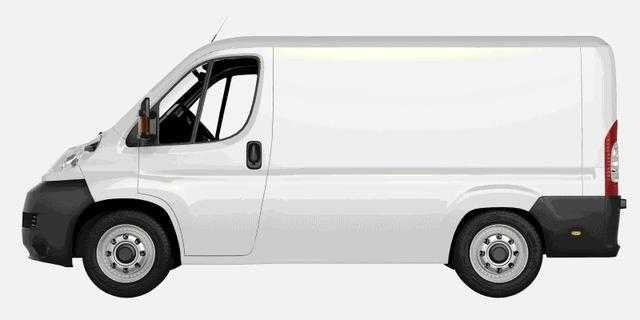van: (22, 34, 624, 298)
